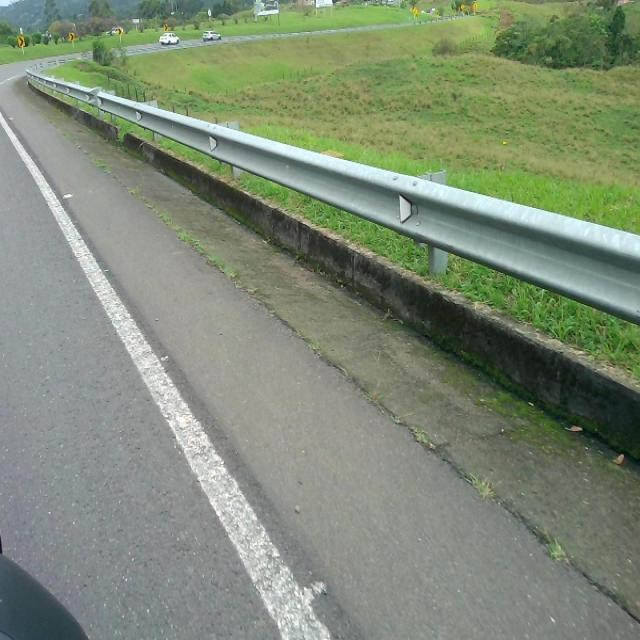DITCH: (3, 44, 637, 638), (5, 65, 638, 638), (2, 115, 638, 638)
